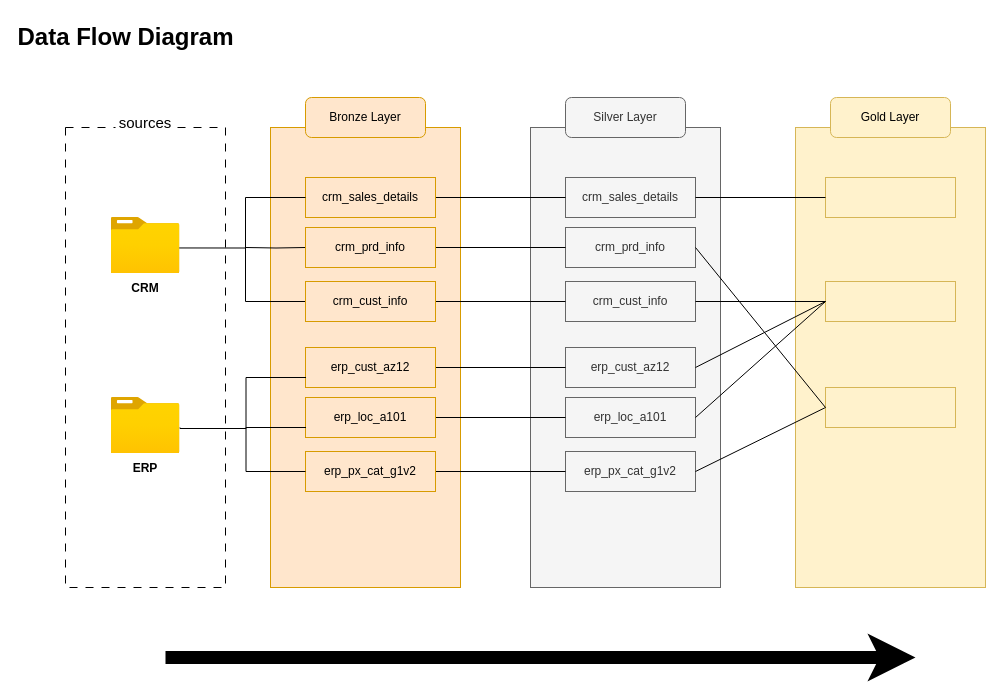
Some shapes in this 1003 by 689 pixel diagram are drawn without their labels. The shapes that lost their labels are listed below. From the top down, each one's centre as x and y in pixels, then its label:
At point (890, 197): "fact_sales".
At point (890, 301): "dim_customers".
At point (890, 407): "dim_products".
